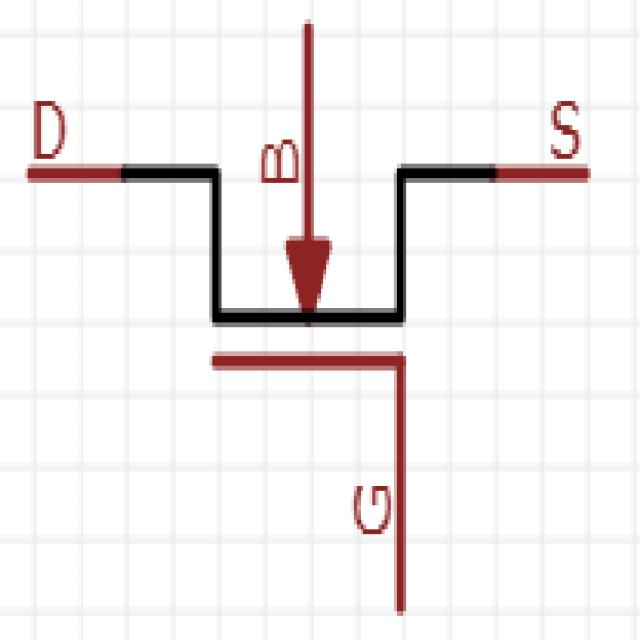nmos: (22, 25, 604, 620)
